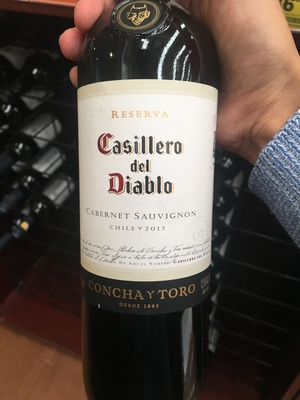casillero del diablo cabernet sauvignon: (73, 9, 230, 400)
